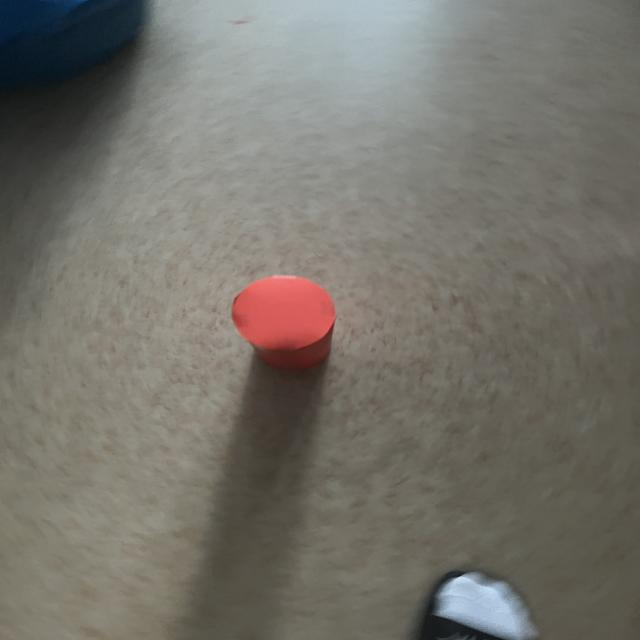przeszkoda: (232, 276, 335, 369)
